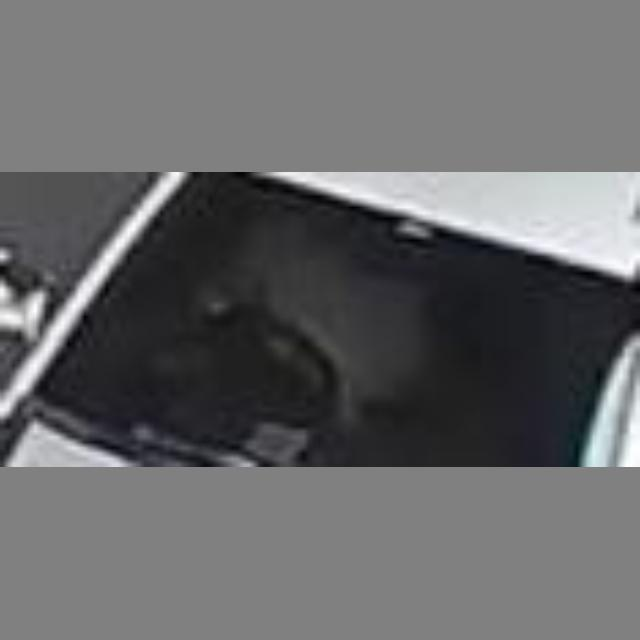tidak-pakai: (213, 227, 421, 429)
